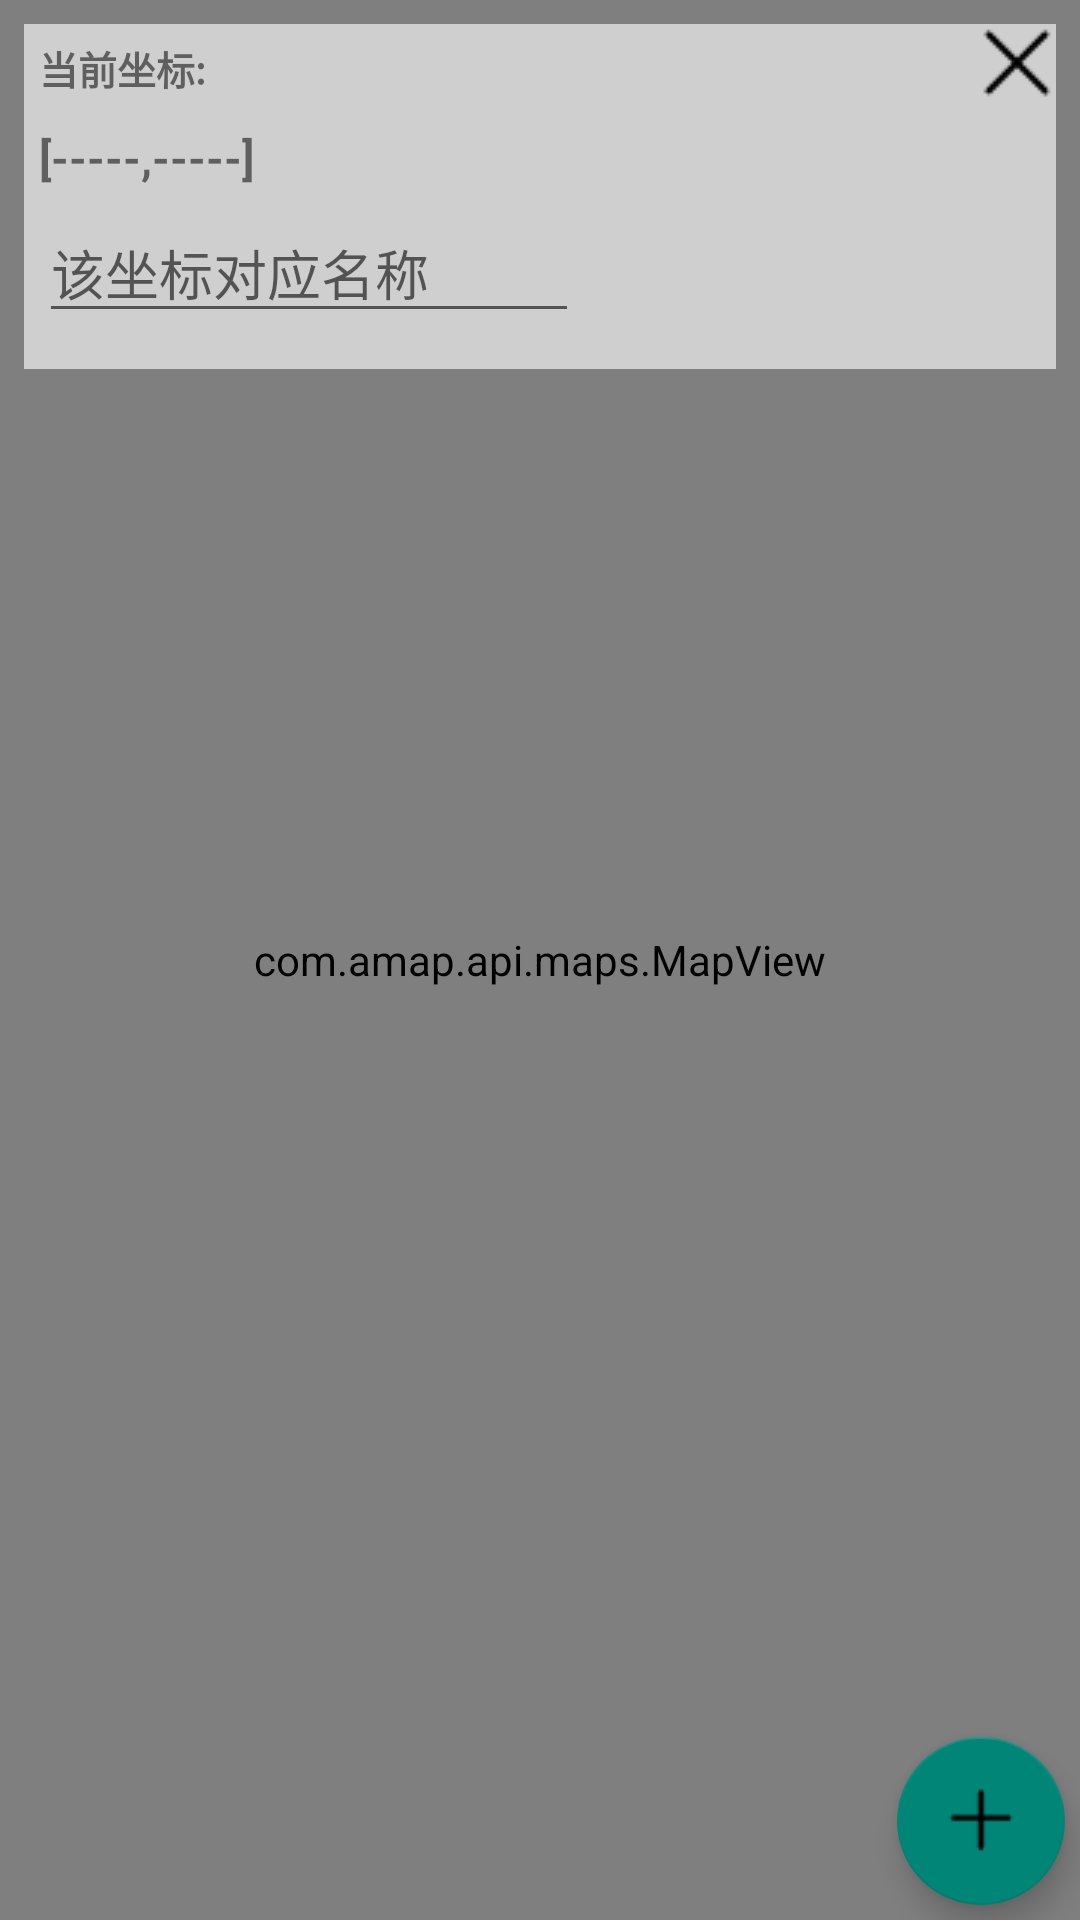

Icon bounding boxes for this 1080 × 1920 phone screenshot, format bbox=(x1, y1, x2, y2):
add: bbox=(897, 1737, 1065, 1905)
